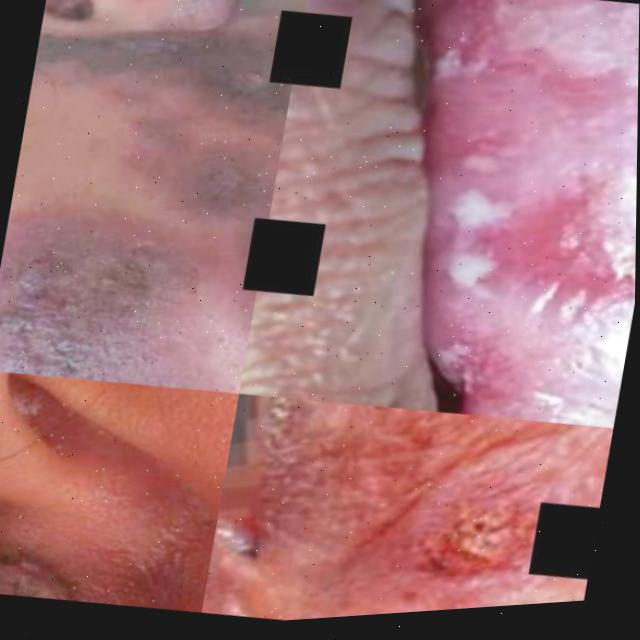lupus-detected: (238, 0, 640, 453), (0, 158, 272, 410), (152, 25, 300, 399), (20, 0, 311, 188), (365, 422, 597, 615), (0, 481, 185, 621)
